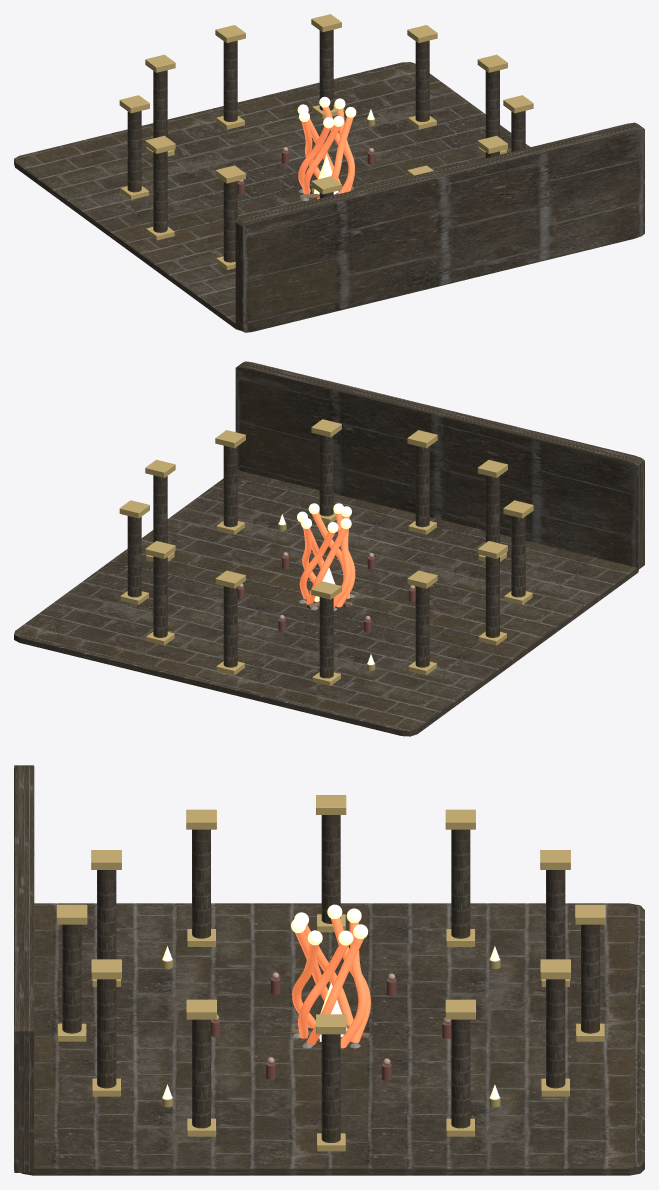
The model's file is adi-02-snake-sacrifice.glb.
3 renders of one model, top to bottom at view 1: azimuth 30°, elevation 25°; view 2: azimuth 150°, elevation 25°; view 3: azimuth 270°, elevation 25°, orthographic. The views are drawn at different scales.
Parts seen in each view (by area): view 1: GEO-rearwall, GEO-floor, GEO-col.006, GEO-col.005, GEO-col.001, GEO-col.003, GEO-col.007, GEO-col.002, GEO-col.004, GEO-col, GEO-col.011, GEO-serpent3 (+3 smaller); view 2: GEO-floor, GEO-rearwall, GEO-col.001, GEO-col.003, GEO-col.005, GEO-col.006, GEO-col.004, GEO-col.007, GEO-col.010, GEO-col.002, GEO-col.009, GEO-col.011 (+5 smaller); view 3: GEO-floor, GEO-rearwall, GEO-col.005, GEO-col.009, GEO-col.001, GEO-col.010, GEO-col.002, GEO-col, GEO-col.007, GEO-col.003, GEO-col.011, GEO-col.006 (+19 smaller).
Boxes of the visible parts, x1=… form: GEO-rearwall: x1=235, y1=122, x2=644, y2=332; GEO-floor: x1=14, y1=62, x2=530, y2=330; GEO-col.006: x1=153, y1=151, x2=167, y2=232; GEO-col.005: x1=127, y1=111, x2=141, y2=192; GEO-col.001: x1=415, y1=40, x2=429, y2=121; GEO-col.003: x1=223, y1=40, x2=237, y2=121; GEO-col.007: x1=223, y1=181, x2=237, y2=262; GEO-col.002: x1=319, y1=29, x2=333, y2=110; GEO-col.004: x1=153, y1=70, x2=167, y2=138; GEO-col: x1=485, y1=70, x2=499, y2=138; GEO-col.011: x1=511, y1=111, x2=525, y2=151; GEO-serpent3: x1=302, y1=125, x2=340, y2=194; GEO-floor: x1=14, y1=470, x2=638, y2=736; GEO-rearwall: x1=235, y1=361, x2=644, y2=569; GEO-col.001: x1=127, y1=516, x2=141, y2=597; GEO-col.003: x1=223, y1=586, x2=237, y2=667; GEO-col.005: x1=415, y1=586, x2=429, y2=667; GEO-col.006: x1=485, y1=556, x2=499, y2=637; GEO-col.004: x1=319, y1=597, x2=333, y2=678; GEO-col.007: x1=511, y1=516, x2=525, y2=597; GEO-col.010: x1=319, y1=435, x2=333, y2=516; GEO-col.002: x1=153, y1=556, x2=167, y2=637; GEO-col.009: x1=415, y1=446, x2=429, y2=527; GEO-col.011: x1=223, y1=445, x2=237, y2=527; GEO-floor: x1=21, y1=903, x2=644, y2=1175; GEO-rearwall: x1=14, y1=765, x2=34, y2=1172; GEO-col.005: x1=451, y1=829, x2=470, y2=938; GEO-col.009: x1=62, y1=924, x2=81, y2=1033; GEO-col.001: x1=451, y1=1019, x2=470, y2=1128; GEO-col.010: x1=97, y1=979, x2=116, y2=1088; GEO-col.002: x1=546, y1=979, x2=565, y2=1088; GEO-col: x1=321, y1=1034, x2=340, y2=1142; GEO-col.007: x1=192, y1=829, x2=210, y2=938; GEO-col.003: x1=581, y1=924, x2=599, y2=1033; GEO-col.011: x1=192, y1=1019, x2=210, y2=1128; GEO-col.006: x1=321, y1=815, x2=340, y2=923.
Size of the model in its own units: 46 by 12.41 by 46.25.
Materials: 12 (2 with a texture image).
